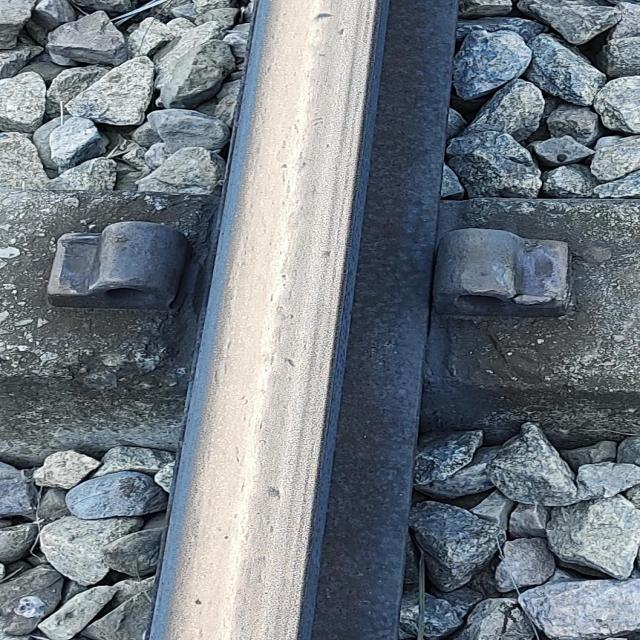Missing Fastener: (399, 224, 614, 349), (38, 193, 210, 344)
